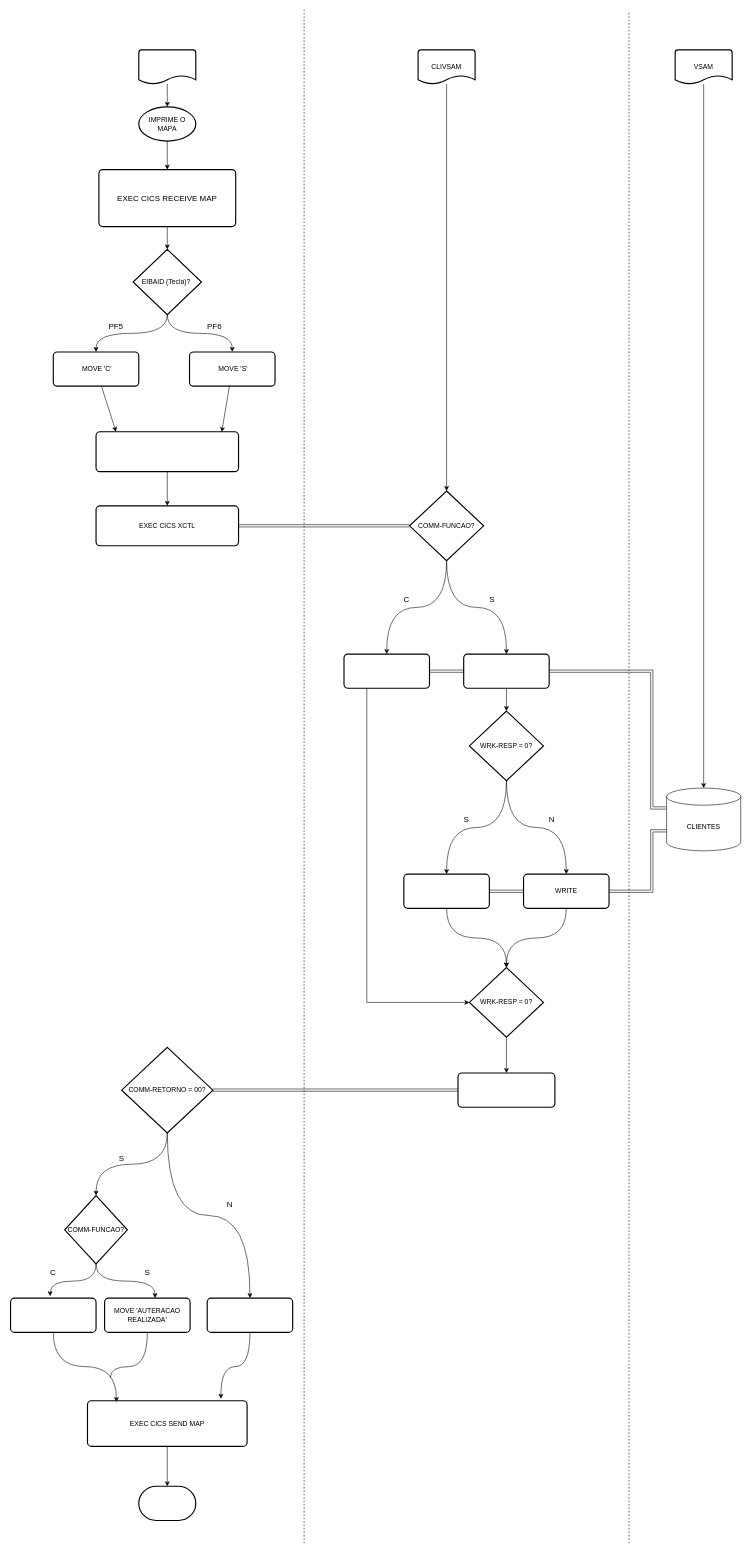
The diagram is 751 pixels wide and 1554 high, and some of its shapes have lost their labels. The centre of each missing label's shape, as x and y in pixels:
"atualiza COMM-RETORNO" belongs at (506,1090).
"CILPMG" belongs at (167,66).
"FIM" belongs at (167,1503).
"MOVE 'CLIENTE ENCONTRADO'" belongs at (53,1315).
"MOVE 'CLIENTE NAO ENCONTRADO'" belongs at (249,1315).
"Popula DFHCOMMAREA" belongs at (167,451).
"READ" belongs at (386,671).
"READ UPDATE" belongs at (506,671).
"REWRITE" belongs at (446,891).
